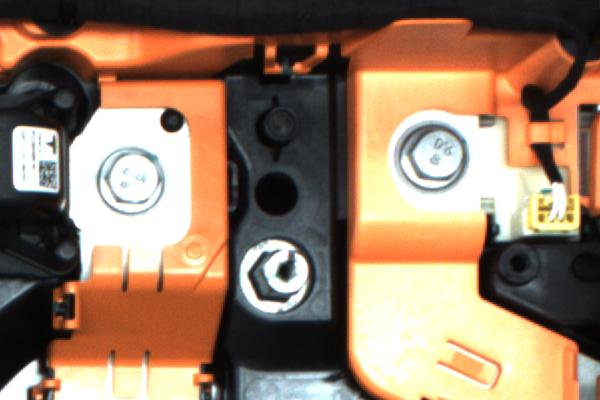nut_b: (394, 118, 475, 195), (97, 140, 164, 215)
